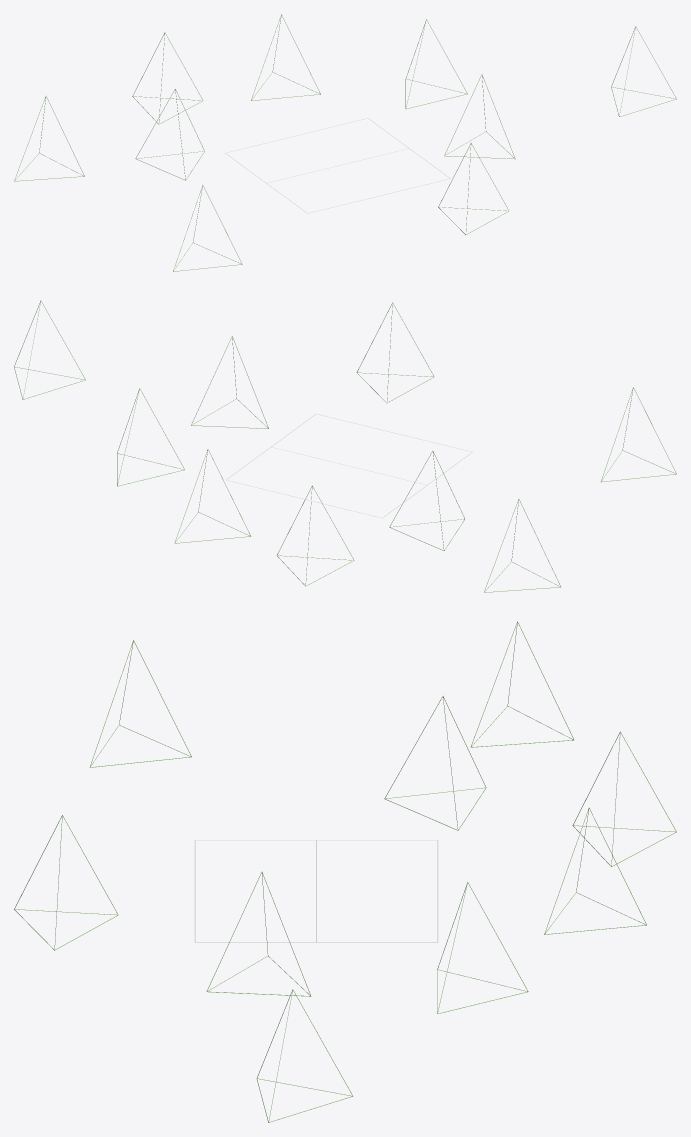
Rendered from maison.glb.
3 renders of one model, top to bottom at view 1: azimuth 30°, elevation 25°; view 2: azimuth 150°, elevation 25°; view 3: azimuth 270°, elevation 25°, orthographic. The views are drawn at different scales.
Parts seen in each view (by area): view 1: Cube; view 2: Cube; view 3: Cube.
Part boxes in pixels (left/top/right/bottom): Cube: left=225, top=118, right=450, bottom=213; Cube: left=226, top=414, right=472, bottom=518; Cube: left=194, top=840, right=438, bottom=942.
Size of the model in its own units: 8.13 by 1 by 5.46.
